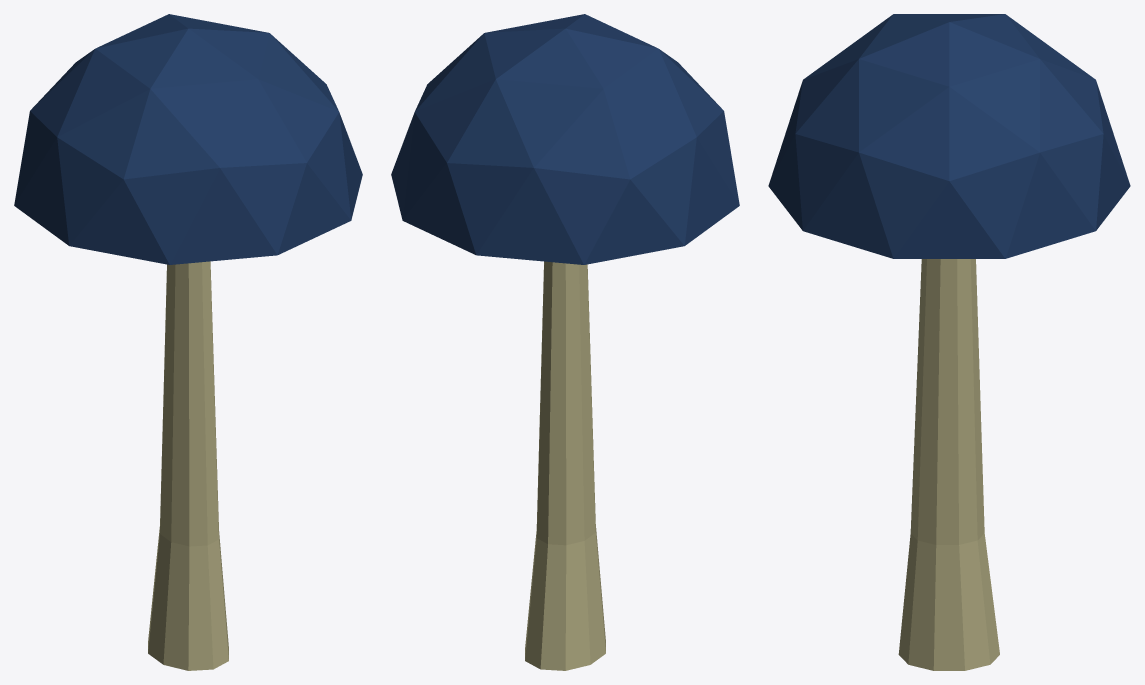
The model's file is mushroom02_blue.fbx.
3 renders of one model, left to right at view 1: azimuth 30°, elevation 25°; view 2: azimuth 150°, elevation 25°; view 3: azimuth 270°, elevation 25°, orthographic.
Parts seen in each view (by area): view 1: mushroom02_blue; view 2: mushroom02_blue; view 3: mushroom02_blue.
Boxes of the visible parts, x1,y1,x2,y2 form: mushroom02_blue: (14,14,362,670); mushroom02_blue: (391,14,739,670); mushroom02_blue: (768,14,1130,670).
Bounding box in the file's own units: 46.13 × 93.47 × 48.51.
